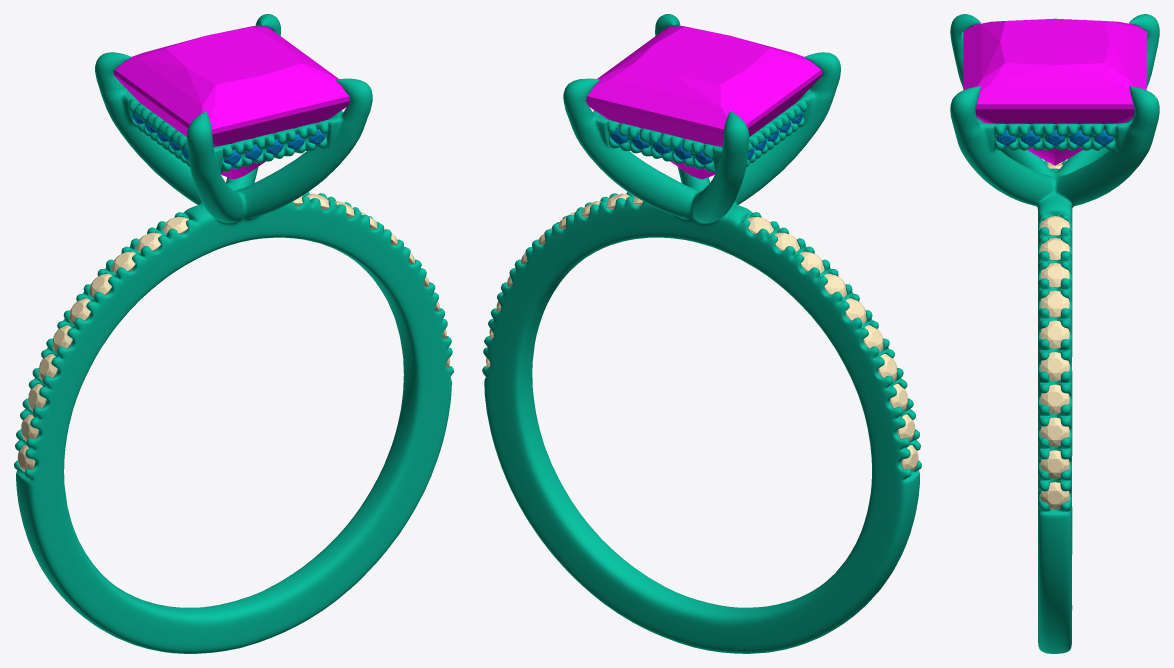
Rendered from BE1D1620_PR_200ct_RENDER.glb.
3 views of the same model, side by side, from view 1: azimuth 30°, elevation 25°; view 2: azimuth 150°, elevation 25°; view 3: azimuth 270°, elevation 25° (orthographic).
Visible parts, largest first — view 1: Metal 01, CS_Diamond_Princess; view 2: Metal 01, CS_Diamond_Princess; view 3: Metal 01, CS_Diamond_Princess, Diamond_Round_Gem_SH.017, Diamond_Round_Gem_SH.016, Diamond_Round_Gem_SH.015, Diamond_Round_Gem_SH.018, Diamond_Round_Gem_SH.014, Diamond_Round_Gem_SH.013, Diamond_Round_Gem_SH.019, Diamond_Round_Gem_SH.012, Diamond_Round_Gem_SH.011, Diamond_Round_Gem_SH.010.
Boxes of the visible parts, <box> form: Metal 01: <box>14,14,453,653</box>; CS_Diamond_Princess: <box>113,26,349,179</box>; Metal 01: <box>482,14,921,653</box>; CS_Diamond_Princess: <box>586,26,822,179</box>; Metal 01: <box>950,14,1159,653</box>; CS_Diamond_Princess: <box>963,18,1146,165</box>; Diamond_Round_Gem_SH.017: <box>1040,417,1069,446</box>; Diamond_Round_Gem_SH.016: <box>1040,384,1069,413</box>; Diamond_Round_Gem_SH.015: <box>1040,352,1069,380</box>; Diamond_Round_Gem_SH.018: <box>1040,450,1069,478</box>; Diamond_Round_Gem_SH.014: <box>1040,320,1069,348</box>; Diamond_Round_Gem_SH.013: <box>1040,290,1069,317</box>; Diamond_Round_Gem_SH.019: <box>1040,482,1069,509</box>; Diamond_Round_Gem_SH.012: <box>1040,263,1069,287</box>; Diamond_Round_Gem_SH.011: <box>1040,238,1069,260</box>; Diamond_Round_Gem_SH.010: <box>1040,216,1069,235</box>.
Bounding box in the file's own units: 20.21 × 26.61 × 8.58.
